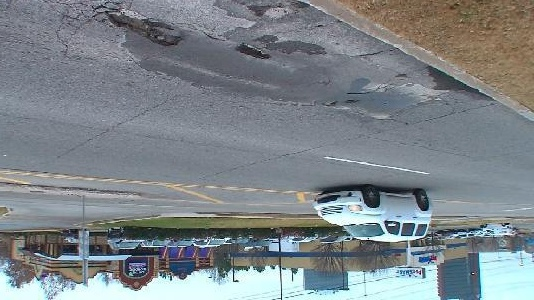pothole: (104, 7, 184, 48), (234, 44, 271, 63), (321, 99, 338, 111), (343, 97, 360, 106)
